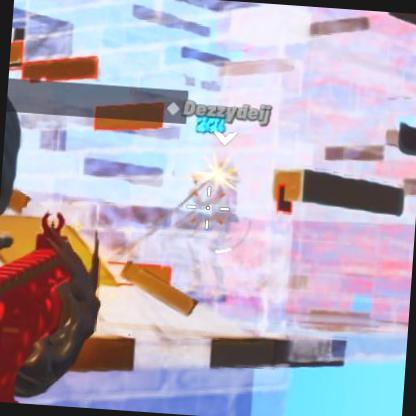person: (181, 154, 259, 310)
